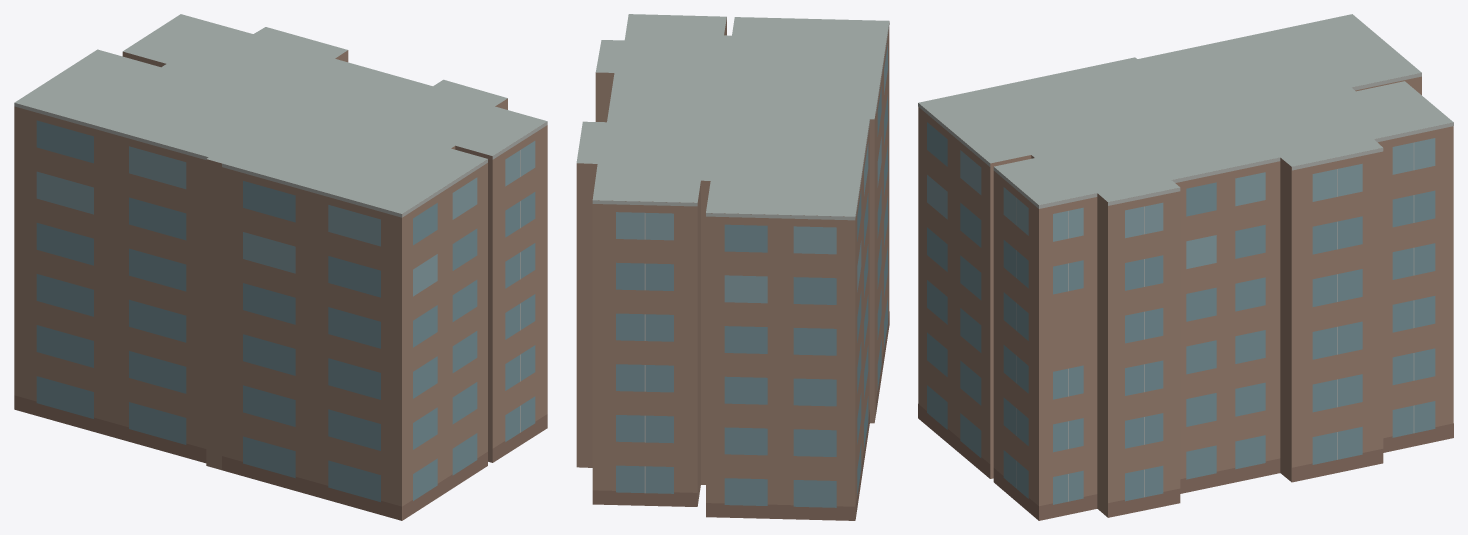
File: survey-upis-32915144.glb
The picture shows the model from 3 angles, left to right: view 1: azimuth 30°, elevation 25°; view 2: azimuth 150°, elevation 25°; view 3: azimuth 270°, elevation 25°; orthographic projection. The views are drawn at different scales.
Visible parts, largest first — view 1: survey-upis-32915144.tmp; view 2: survey-upis-32915144.tmp; view 3: survey-upis-32915144.tmp.
Boxes of the visible parts, box(x1,y1,x2,y2) form: survey-upis-32915144.tmp: box(14, 14, 547, 520); survey-upis-32915144.tmp: box(576, 14, 889, 520); survey-upis-32915144.tmp: box(918, 14, 1453, 520).
Bounding box in the file's own units: 26.79 × 20.6 × 31.7.
